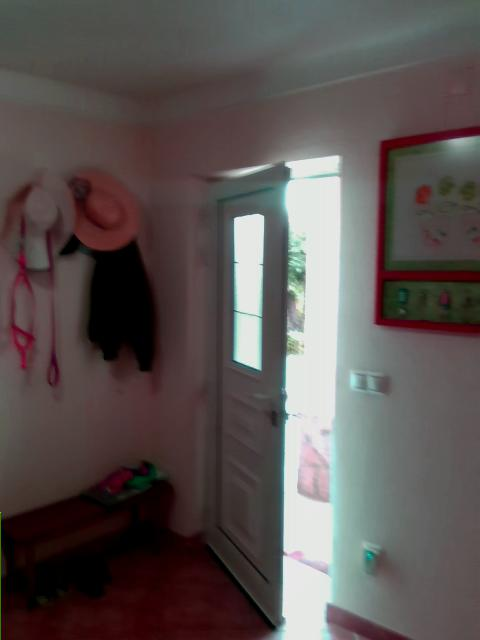semi_door: (201, 149, 344, 633)
